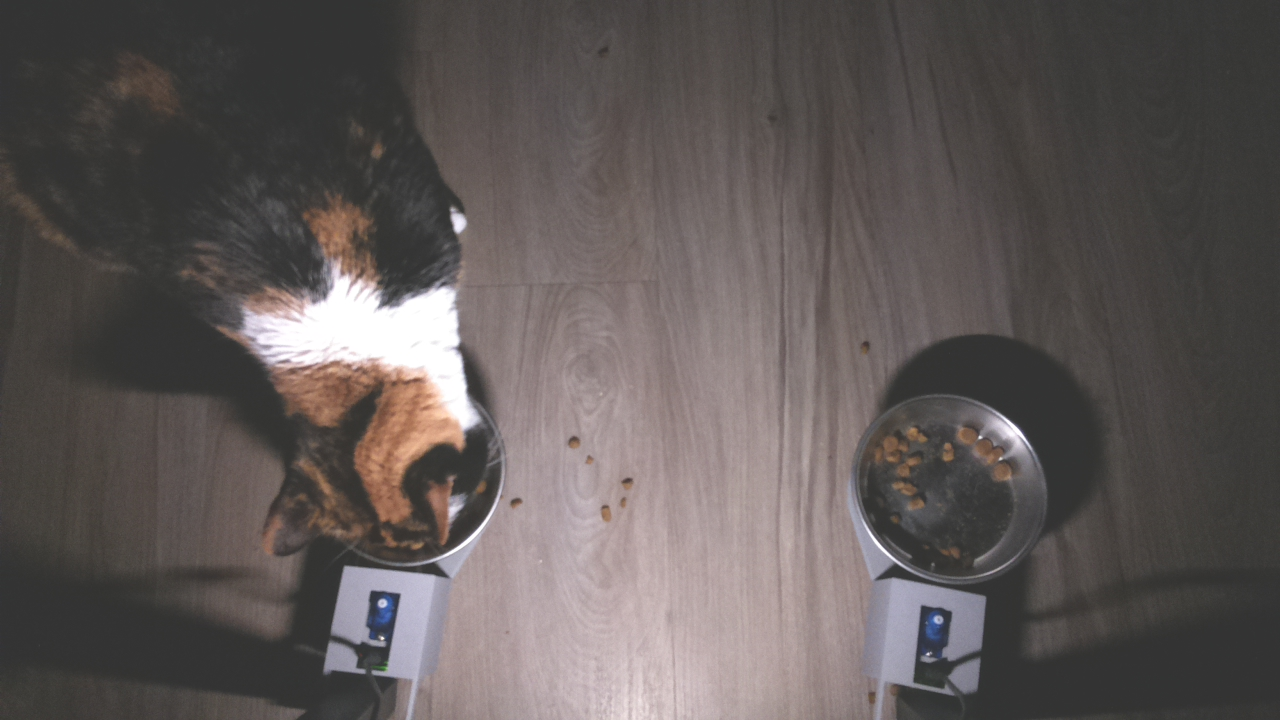bella_eating: (240, 275, 508, 575)
open_bowl: (848, 392, 1050, 590)
